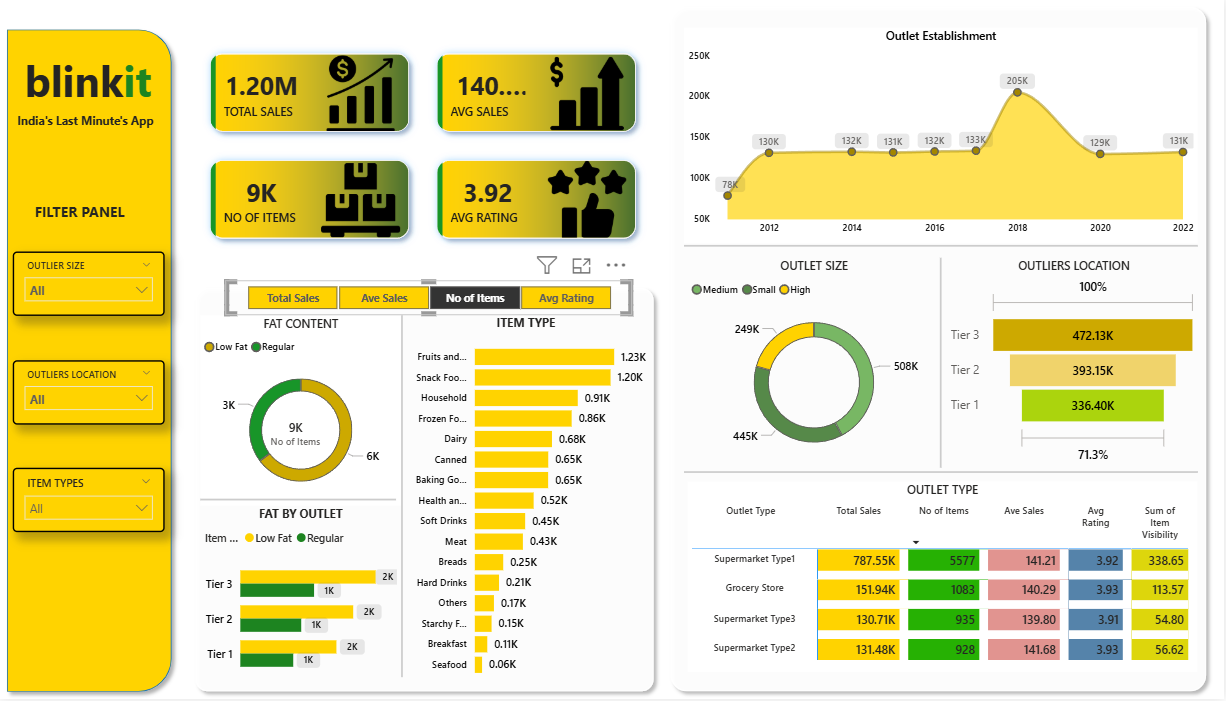

The page's visual inventory and layout, read from the dashboard file:
{"tool":"powerbi","page":{"name":"Page 1","canvas":[1400,800],"ordinal":0},"visuals":[{"type":"shape","box":[0,25,206.2,775],"z":0},{"type":"cardVisual","fields":{"Data":["BlinkIT Grocery Data.Total Sales","BlinkIT Grocery Data.Ave Sales","BlinkIT Grocery Data.No of Items","BlinkIT Grocery Data.Avg Rating","select"]},"box":[212.5,32.5,545,270],"z":1000},{"type":"shape","box":[216.2,321.2,541.2,478.8],"z":2000},{"type":"donutChart","title":"FAT CONTENT","fields":{"Y":["BlinkIT Grocery Data.Avg Rating"],"Category":["BlinkIT Grocery Data.Item Fat Content"]},"box":[230,361.2,230,217.5],"z":3000},{"type":"slicer","fields":{"Values":["Metrics.Metrics"]},"box":[258.3,321.7,465,40],"z":4000},{"type":"cardVisual","fields":{"Data":["BlinkIT Grocery Data.Avg Rating"]},"box":[273.5,458.4,132.7,76.4],"z":5000},{"type":"textbox","box":[24.3,55.7,157.1,82.9],"z":6000},{"type":"textbox","box":[16.2,123.8,173.8,28.8],"z":7000},{"type":"clusteredBarChart","title":"FAT BY OUTLET","fields":{"Y":["BlinkIT Grocery Data.Avg Rating"],"Category":["BlinkIT Grocery Data.Outlet Location Type"],"Series":["BlinkIT Grocery Data.Item Fat Content"]},"box":[230,578.8,230,207.5],"z":8000},{"type":"shape","box":[230,551.2,223.8,41.2],"z":9000},{"type":"shape","box":[453.8,361.2,12.5,413.8],"z":10000},{"type":"clusteredBarChart","title":"ITEM TYPE","fields":{"Y":["BlinkIT Grocery Data.Avg Rating"],"Category":["BlinkIT Grocery Data.Item Type"]},"box":[459.4,359.4,284.4,425],"z":11000},{"type":"shape","box":[758.8,0,630,800],"z":12000},{"type":"lineChart","title":"Outlet Establishment","fields":{"Category":["BlinkIT Grocery Data.Outlet Establishment Year"],"Y":["BlinkIT Grocery Data.Total Sales"]},"box":[782.5,32.5,587.5,246.2],"z":13000},{"type":"donutChart","title":"OUTLET SIZE","fields":{"Category":["BlinkIT Grocery Data.Outlet Size"],"Y":["BlinkIT Grocery Data.Total Sales"]},"box":[787.5,295,288.8,240],"z":14000},{"type":"funnel","title":"OUTLIERS LOCATION","fields":{"Y":["Sum(BlinkIT Grocery Data.Sales)"],"Category":["BlinkIT Grocery Data.Outlet Location Type"]},"box":[1082.5,295,291.2,240],"z":15000},{"type":"pivotTable","title":"OUTLET TYPE","fields":{"Values":["BlinkIT Grocery Data.Total Sales","BlinkIT Grocery Data.No of Items","BlinkIT Grocery Data.Ave Sales","BlinkIT Grocery Data.Avg Rating","Sum(BlinkIT Grocery Data.Item Visibility)"],"Rows":["BlinkIT Grocery Data.Outlet Type"]},"box":[787.5,551.2,582.5,217.5],"z":16000},{"type":"shape","box":[1070,295,12.5,240],"z":17000},{"type":"shape","box":[782.5,520,587.5,41.2],"z":18000},{"type":"shape","box":[782.5,261.2,587.5,41.2],"z":19000},{"type":"slicer","fields":{"Values":["BlinkIT Grocery Data.Outlet Size"]},"box":[15.6,289.1,173.4,73.4],"z":19001},{"type":"slicer","fields":{"Values":["BlinkIT Grocery Data.Outlet Location Type"]},"box":[15.6,412.5,173.4,73.4],"z":19002},{"type":"slicer","fields":{"Values":["BlinkIT Grocery Data.Item Type"]},"box":[15.6,535.9,173.4,73.4],"z":19003},{"type":"textbox","box":[25,226.6,132.8,34.4],"z":19004}]}

Visuals, with their boxes in screenshot pixels (x1, y1, x2, y2), scaled from the page's 1400x800 canvas onto the 1226x701 screenshot:
shape: box=[0, 22, 181, 700]
cardVisual - BlinkIT Grocery Data.Total Sales x BlinkIT Grocery Data.Ave Sales: box=[186, 28, 663, 265]
shape: box=[189, 281, 663, 700]
"FAT CONTENT" donutChart: box=[201, 317, 403, 507]
slicer - Metrics.Metrics: box=[226, 282, 633, 317]
cardVisual - BlinkIT Grocery Data.Avg Rating: box=[240, 402, 356, 469]
textbox: box=[21, 49, 159, 121]
textbox: box=[14, 108, 166, 134]
"FAT BY OUTLET" clusteredBarChart: box=[201, 507, 403, 689]
shape: box=[201, 483, 397, 519]
shape: box=[397, 317, 408, 679]
"ITEM TYPE" clusteredBarChart: box=[402, 315, 651, 687]
shape: box=[664, 0, 1216, 700]
"Outlet Establishment" lineChart: box=[685, 28, 1200, 244]
"OUTLET SIZE" donutChart: box=[690, 258, 943, 469]
"OUTLIERS LOCATION" funnel: box=[948, 258, 1203, 469]
"OUTLET TYPE" pivotTable: box=[690, 483, 1200, 674]
shape: box=[937, 258, 948, 469]
shape: box=[685, 456, 1200, 492]
shape: box=[685, 229, 1200, 265]
slicer - BlinkIT Grocery Data.Outlet Size: box=[14, 253, 166, 318]
slicer - BlinkIT Grocery Data.Outlet Location Type: box=[14, 361, 166, 426]
slicer - BlinkIT Grocery Data.Item Type: box=[14, 470, 166, 534]
textbox: box=[22, 199, 138, 229]
